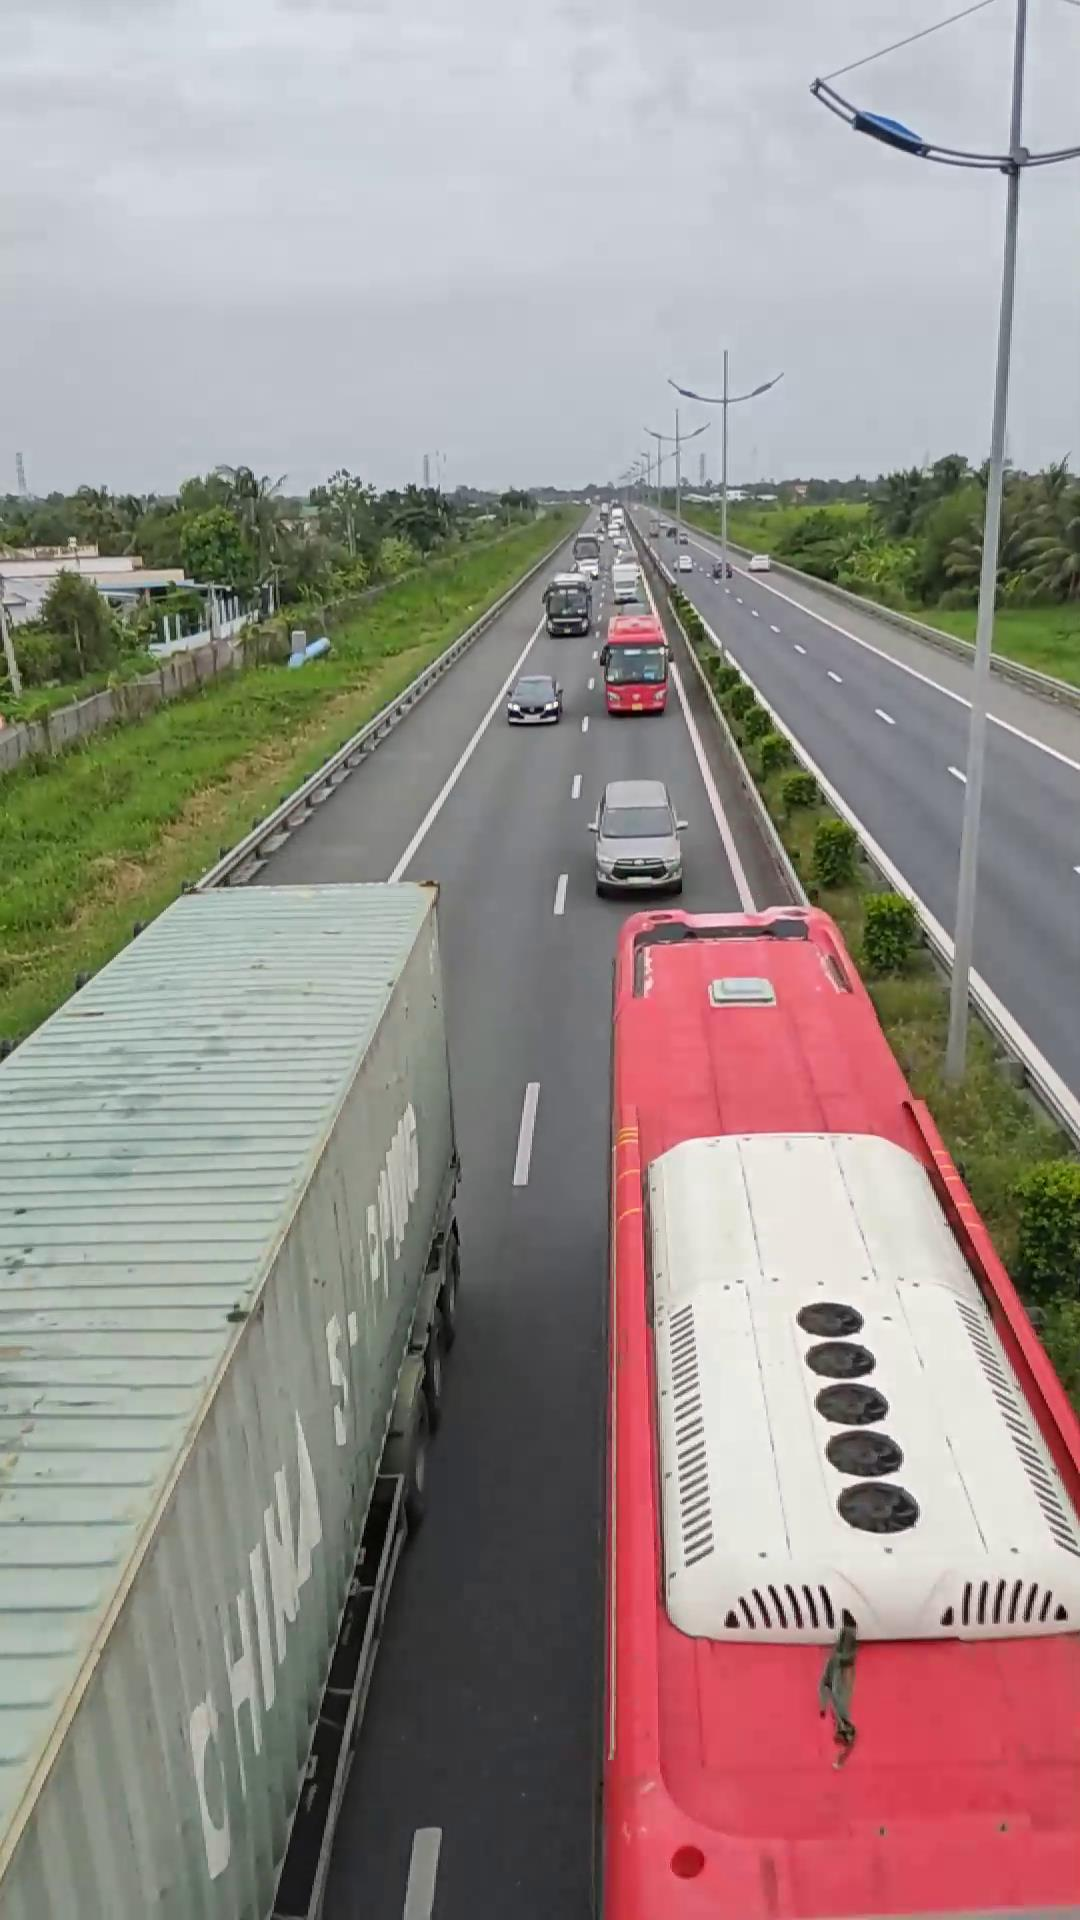bus: (596, 897, 1074, 1916)
car: (587, 778, 685, 896)
container: (0, 881, 466, 1919)
